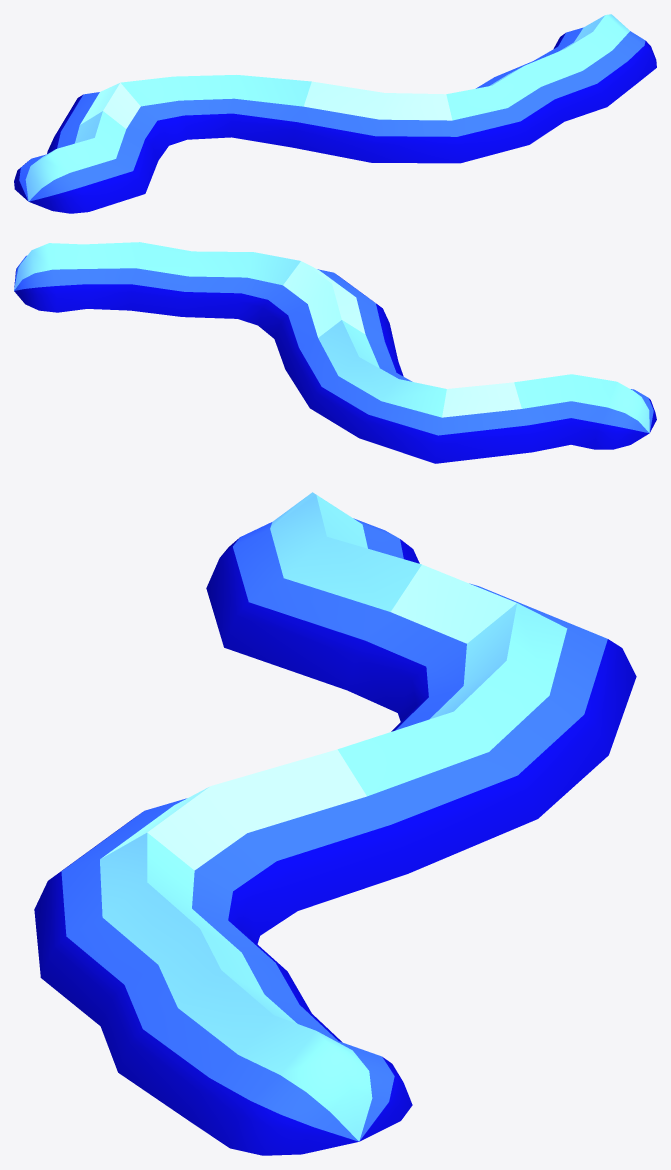
Rendered from shot_lightning_side_199.glb.
The picture shows the model from 3 angles, top to bottom: view 1: azimuth 30°, elevation 25°; view 2: azimuth 150°, elevation 25°; view 3: azimuth 270°, elevation 25°; orthographic projection. The views are drawn at different scales.
Parts seen in each view (by area): view 1: shot_lightning_side_199_0; view 2: shot_lightning_side_199_0; view 3: shot_lightning_side_199_0.
Boxes of the visible parts, x1,y1,x2,y2 form: shot_lightning_side_199_0: (14, 14, 656, 213); shot_lightning_side_199_0: (14, 242, 656, 463); shot_lightning_side_199_0: (34, 492, 636, 1155).
Size of the model in its own units: 13.47 by 0.959 by 5.7.
